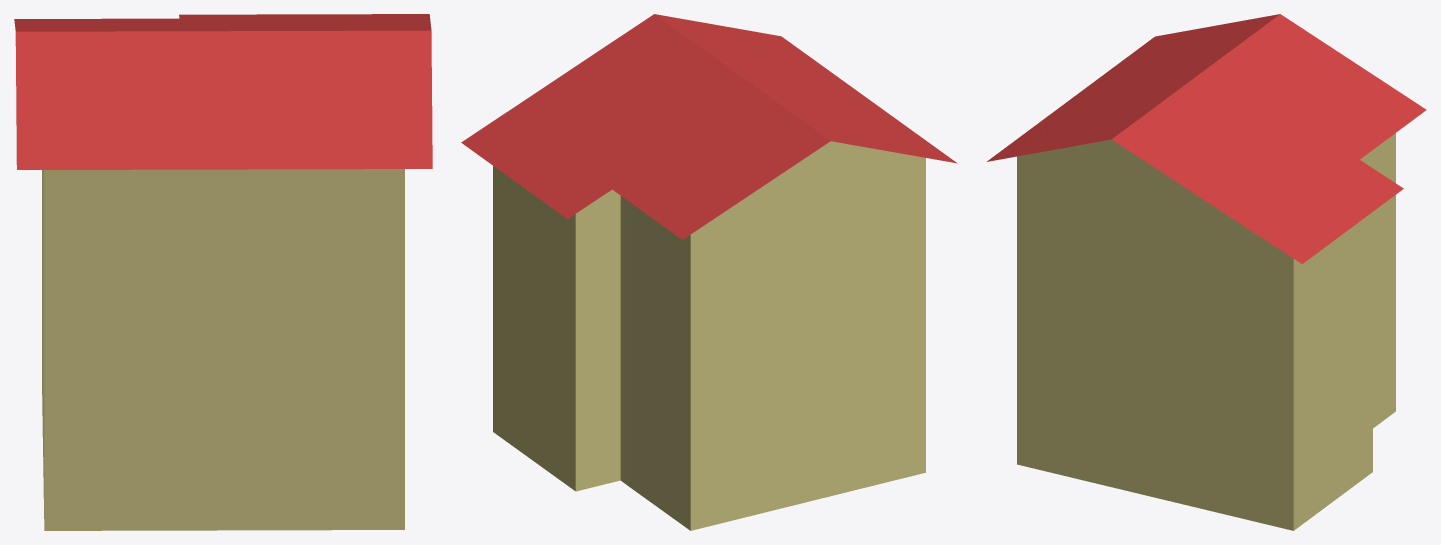
3 renders of one model, left to right at view 1: azimuth 30°, elevation 25°; view 2: azimuth 150°, elevation 25°; view 3: azimuth 270°, elevation 25°, orthographic. The views are drawn at different scales.
Visible parts, largest first — view 1: group_5, group_3, group_4; view 2: group_5, group_3, group_4; view 3: group_5, group_3, group_4.
Boxes of the visible parts, left/top/right/bottom form: group_5: left=42, top=169, right=404, bottom=530; group_3: left=14, top=14, right=432, bottom=169; group_4: left=17, top=16, right=432, bottom=169; group_5: left=493, top=141, right=925, bottom=530; group_3: left=461, top=14, right=957, bottom=239; group_4: left=579, top=14, right=874, bottom=195; group_5: left=1017, top=133, right=1395, bottom=530; group_3: left=988, top=14, right=1426, bottom=264; group_4: left=987, top=14, right=1369, bottom=181.
Bounding box in the file's own units: 15.74 × 14.55 × 13.07.
